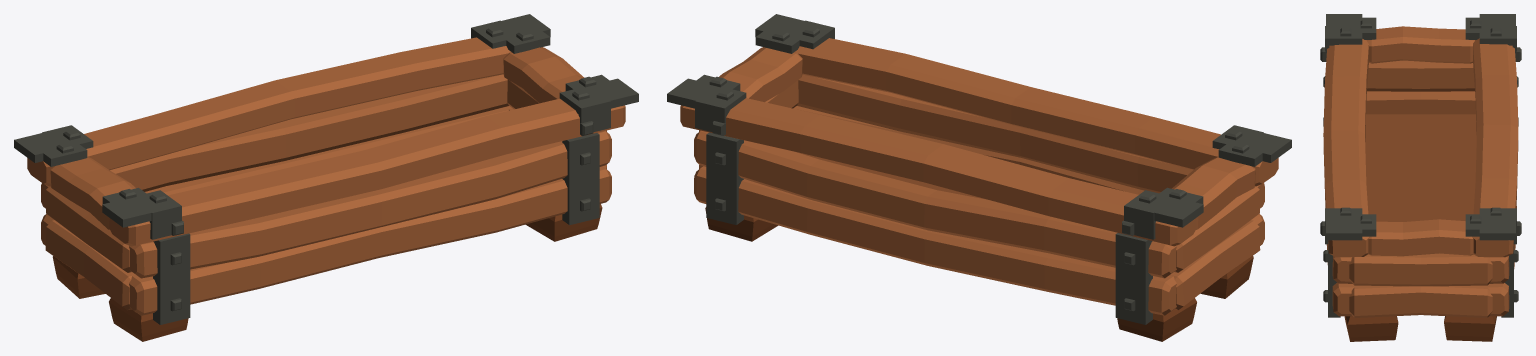
File: water-trough-empty.glb
The picture shows the model from 3 angles, left to right: view 1: azimuth 30°, elevation 25°; view 2: azimuth 150°, elevation 25°; view 3: azimuth 270°, elevation 25°; orthographic projection. The views are drawn at different scales.
Visible parts, largest first — view 1: walls, rim, straps, feet; view 2: walls, rim, straps, feet, floor; view 3: rim, walls, floor, straps, feet.
Boxes of the visible parts, x1,y1,x2,y2 form: walls: [41, 74, 611, 315]; rim: [27, 37, 625, 246]; straps: [14, 14, 638, 324]; feet: [52, 204, 602, 341]; walls: [694, 74, 1264, 315]; rim: [680, 38, 1278, 246]; straps: [667, 14, 1291, 324]; feet: [705, 207, 1253, 341]; floor: [796, 152, 986, 199]; rim: [1323, 26, 1518, 257]; walls: [1325, 60, 1516, 317]; floor: [1365, 114, 1476, 221]; straps: [1320, 14, 1521, 317]; feet: [1344, 316, 1496, 341].
Size of the model in its own units: 1.88 by 0.498 by 0.728.
